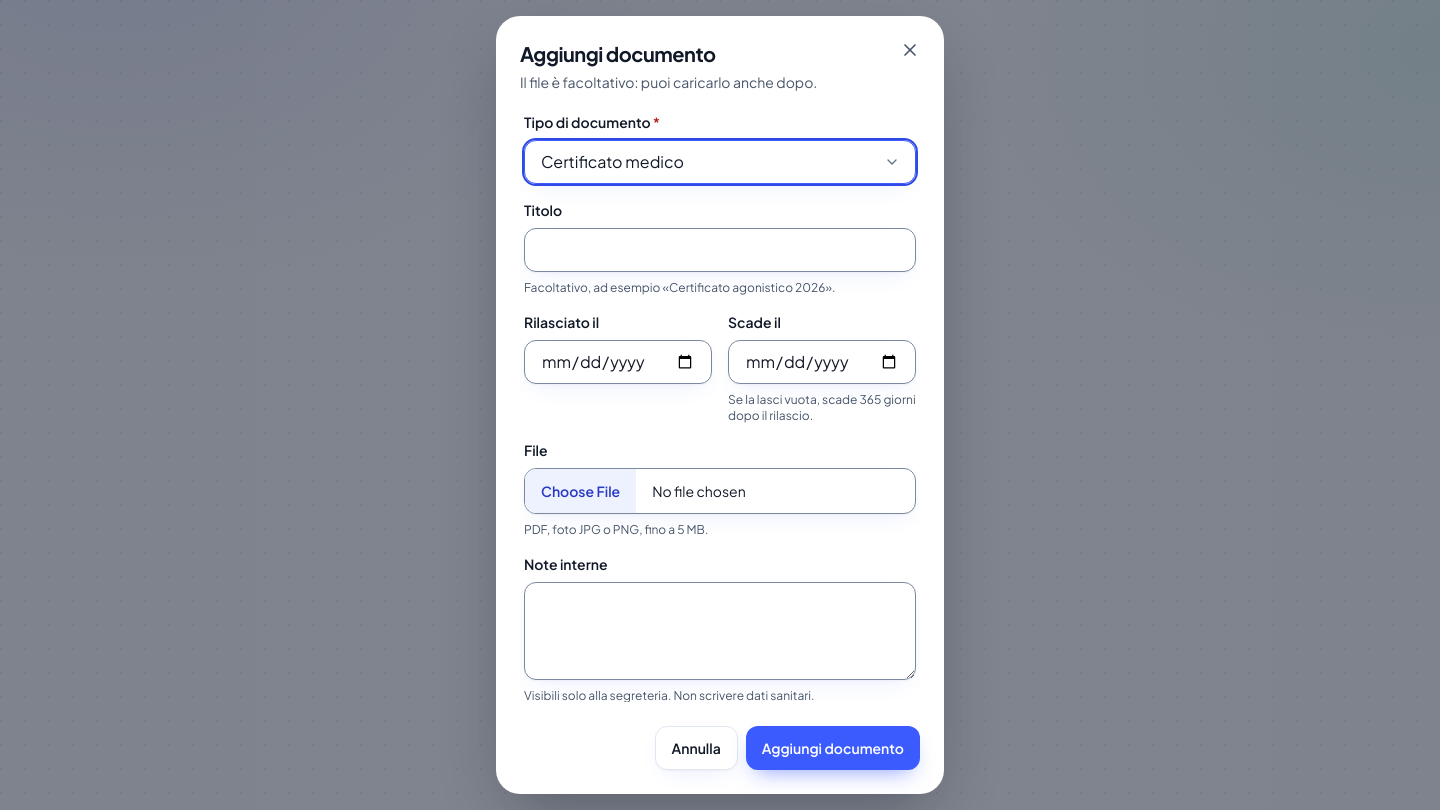
Scenario: DocumentFormDialog › rejects an expiry that precedes the issue date
Type "2026-11-27" into the date field labelled "Rilasciato il".
click(618, 362); type("2026-11-27")  # box [524, 340, 712, 384]
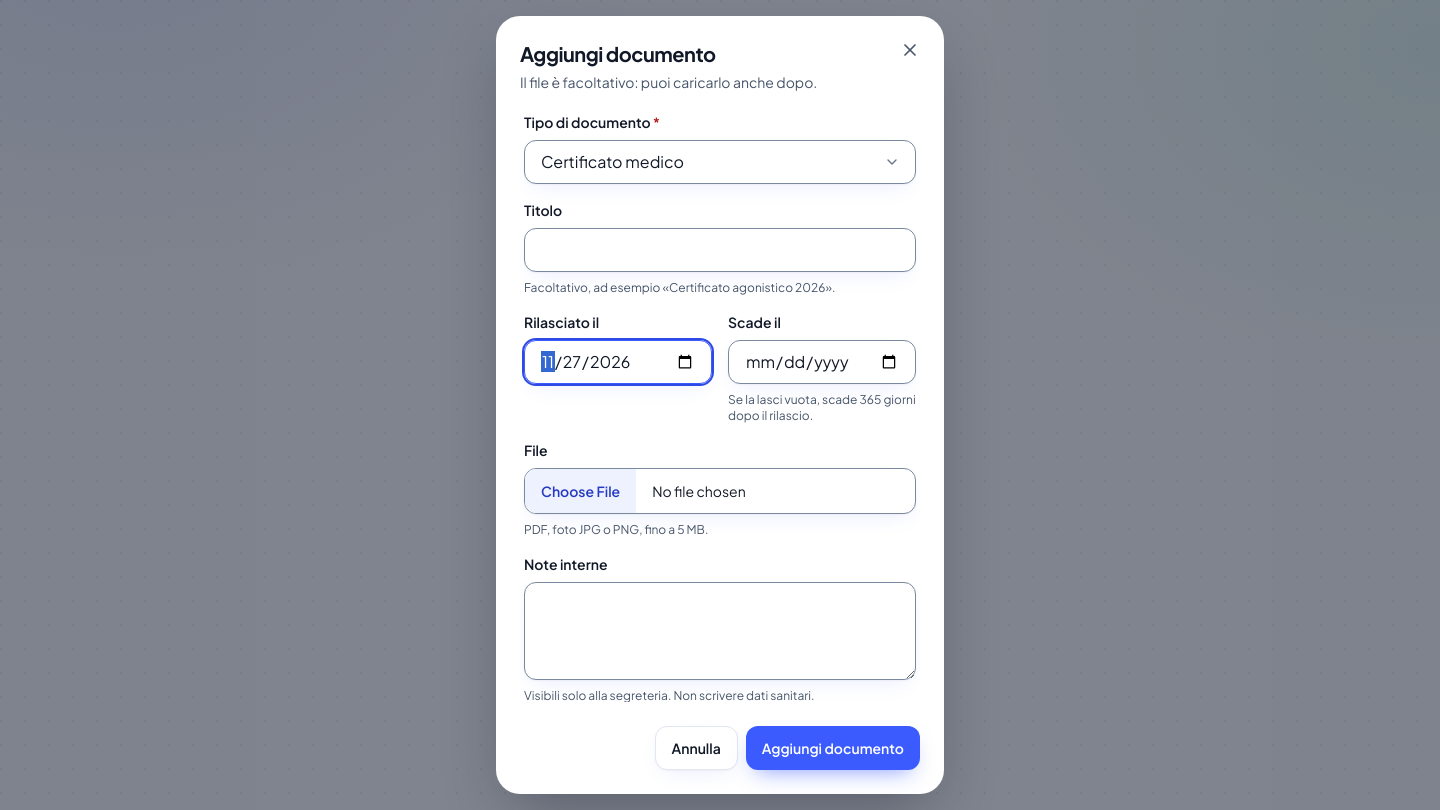
Type "2026-01-01" into the date field labelled "Scade il".
click(822, 362); type("2026-01-01")  # box [728, 340, 916, 384]
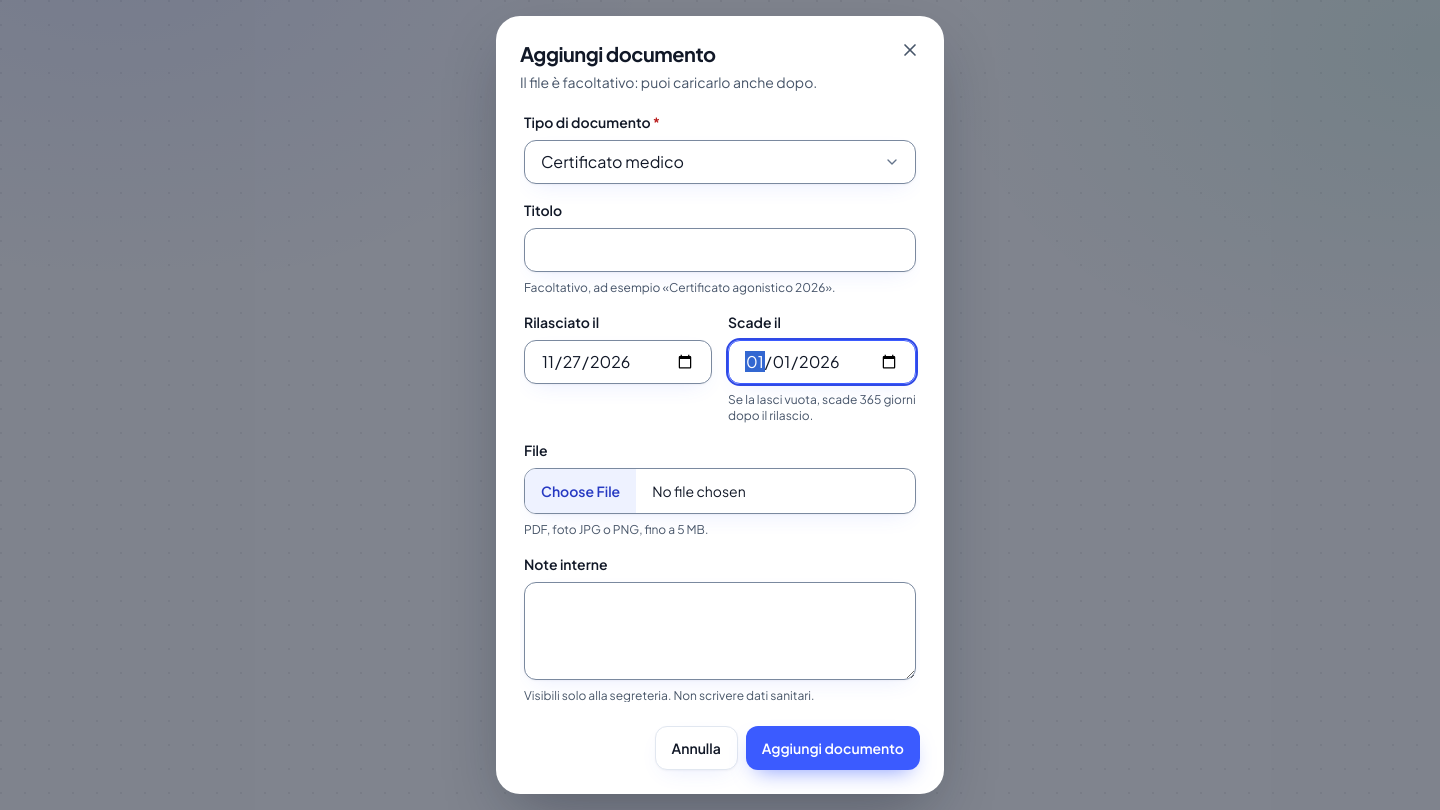
Click the button "Aggiungi documento".
click(833, 748)  # box [746, 726, 920, 770]
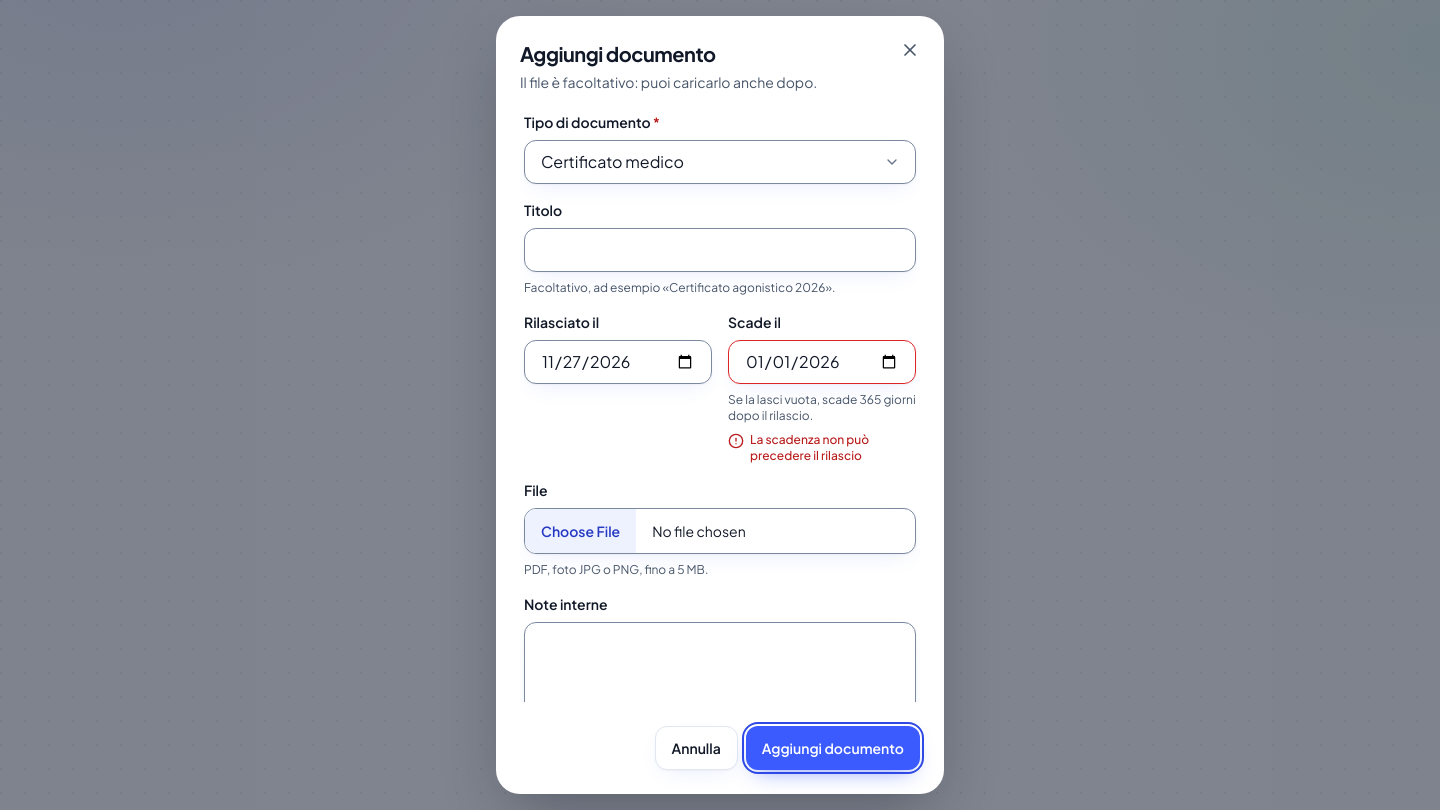
Expected: the text "La scadenza non può precedere il rilascio" is shown, [750, 432, 869, 463]
